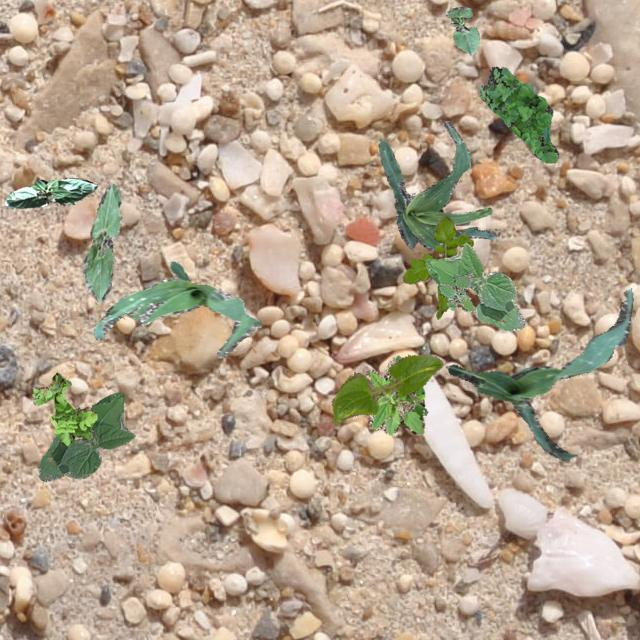crop: (444, 288, 632, 460), (92, 260, 260, 358), (378, 120, 496, 250), (424, 242, 524, 330), (38, 392, 134, 481), (330, 354, 440, 424), (80, 182, 120, 302), (3, 176, 96, 208), (444, 6, 478, 54)
weed: (480, 66, 558, 162), (402, 215, 472, 318), (364, 354, 426, 434), (31, 372, 96, 444), (436, 272, 474, 312)
